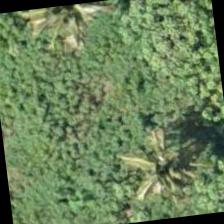Kelapa_Sawit: (118, 132, 218, 222)
